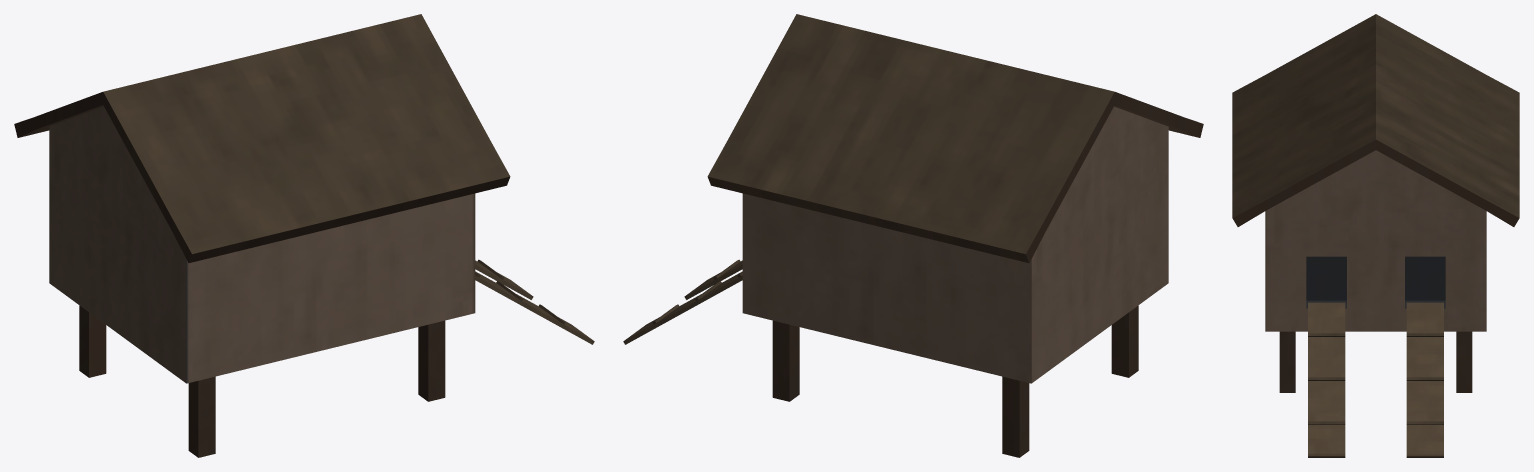
Rendered from ChickenCoop.fbx.
The picture shows the model from 3 angles, left to right: view 1: azimuth 30°, elevation 25°; view 2: azimuth 150°, elevation 25°; view 3: azimuth 270°, elevation 25°; orthographic projection. The views are drawn at different scales.
Parts seen in each view (by area): view 1: ChickenCoop; view 2: ChickenCoop; view 3: ChickenCoop.
Part boxes in pixels (bbox=[...]): ChickenCoop: bbox=[14, 14, 594, 457]; ChickenCoop: bbox=[623, 14, 1203, 457]; ChickenCoop: bbox=[1232, 14, 1519, 457].
Bounding box in the file's own units: 934 × 658 × 640.
